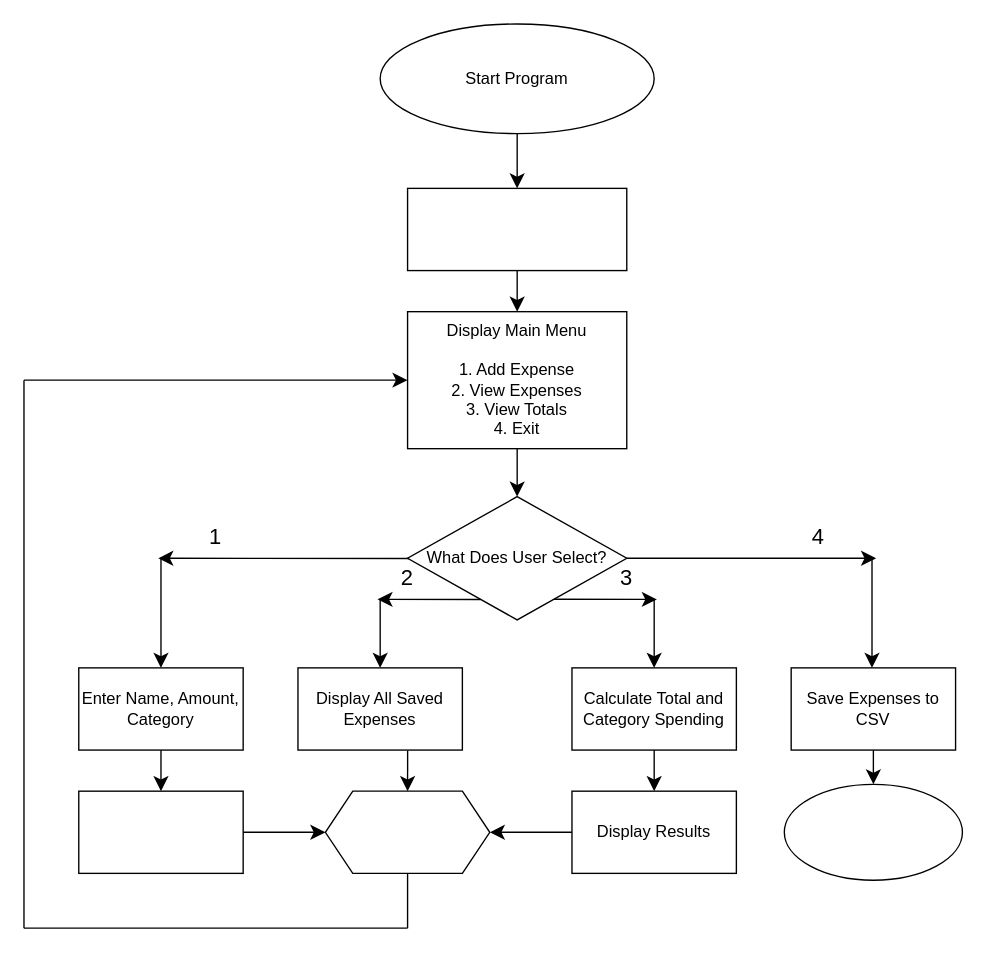
The diagram is 986 pixels wide and 954 high, and some of its shapes have lost their labels. The shapes that lost their labels are listed below. From the top down, each one's centre as x and y in pixels, then its label:
the point at 516,229: Load Expenses from CSV
the point at 160,831: Store Expense in ArrayList
the point at 407,831: Return to Main Menu
the point at 872,831: End Program
